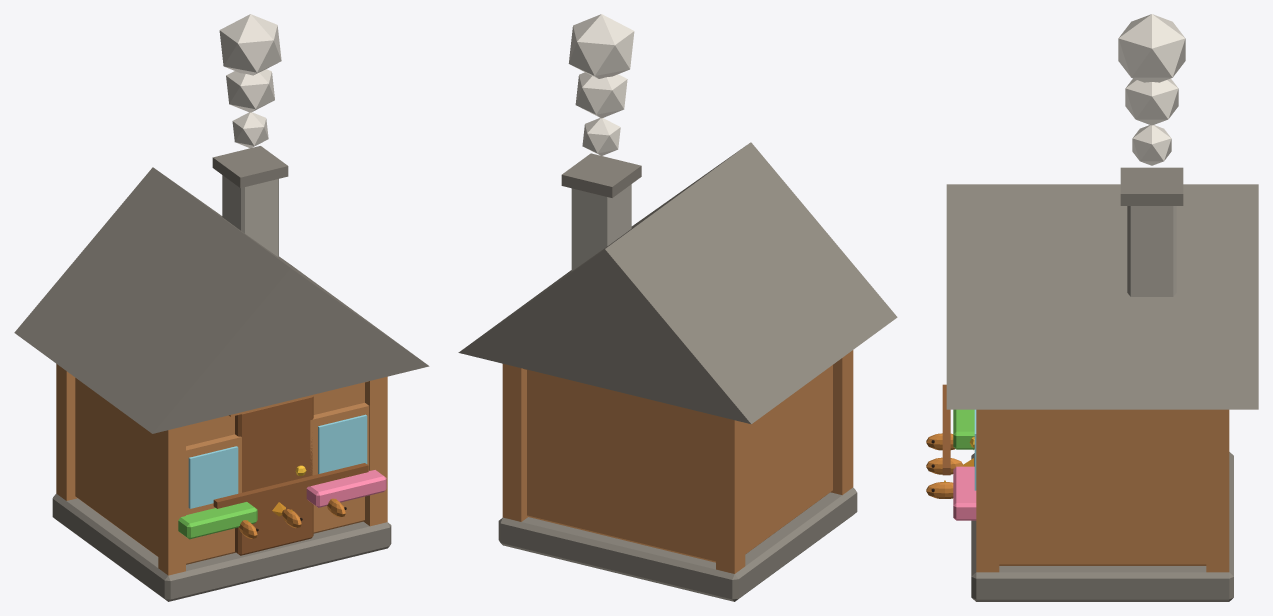
File: station_smokehouse.glb
3 views of the same model, side by side, from view 1: azimuth 30°, elevation 25°; view 2: azimuth 150°, elevation 25°; view 3: azimuth 270°, elevation 25° (orthographic). The views are drawn at different scales.
Visible parts, largest first — view 1: station_smokehouse, station_smokehouse_smoke; view 2: station_smokehouse, station_smokehouse_smoke; view 3: station_smokehouse, station_smokehouse_smoke.
Boxes of the visible parts, left/top/right/bottom form: station_smokehouse: left=14, top=146, right=429, bottom=601; station_smokehouse_smoke: left=219, top=14, right=281, bottom=148; station_smokehouse: left=458, top=142, right=897, bottom=601; station_smokehouse_smoke: left=568, top=14, right=634, bottom=156; station_smokehouse: left=926, top=167, right=1258, bottom=601; station_smokehouse_smoke: left=1118, top=14, right=1185, bottom=165.
Bounding box in the file's own units: 2.2 × 3.73 × 2.02.
